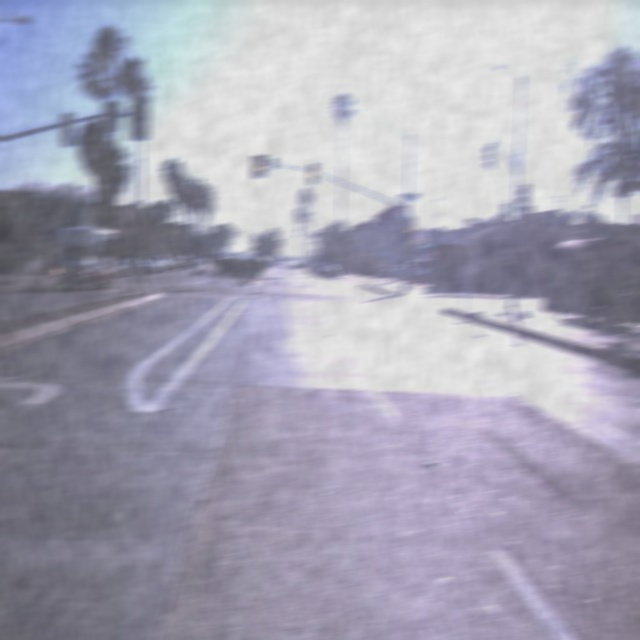warning: (312, 172, 316, 177), (259, 164, 263, 169), (410, 227, 412, 232)
warning traffic light: (307, 162, 321, 186), (255, 154, 267, 178), (406, 218, 416, 239)
